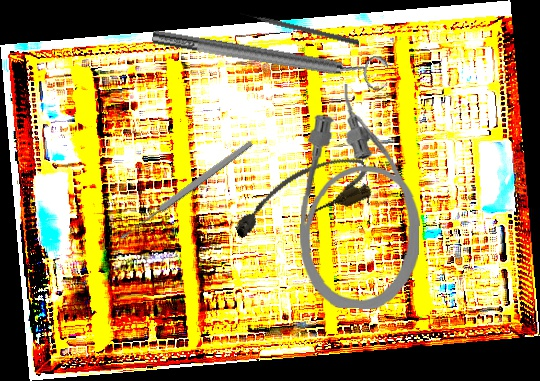Cannula: (297, 82, 425, 311), (224, 148, 377, 247)
Fixation Ring: (149, 16, 390, 95)
Pusher: (238, 9, 361, 46)
Surgical Spoon: (117, 139, 255, 242)
